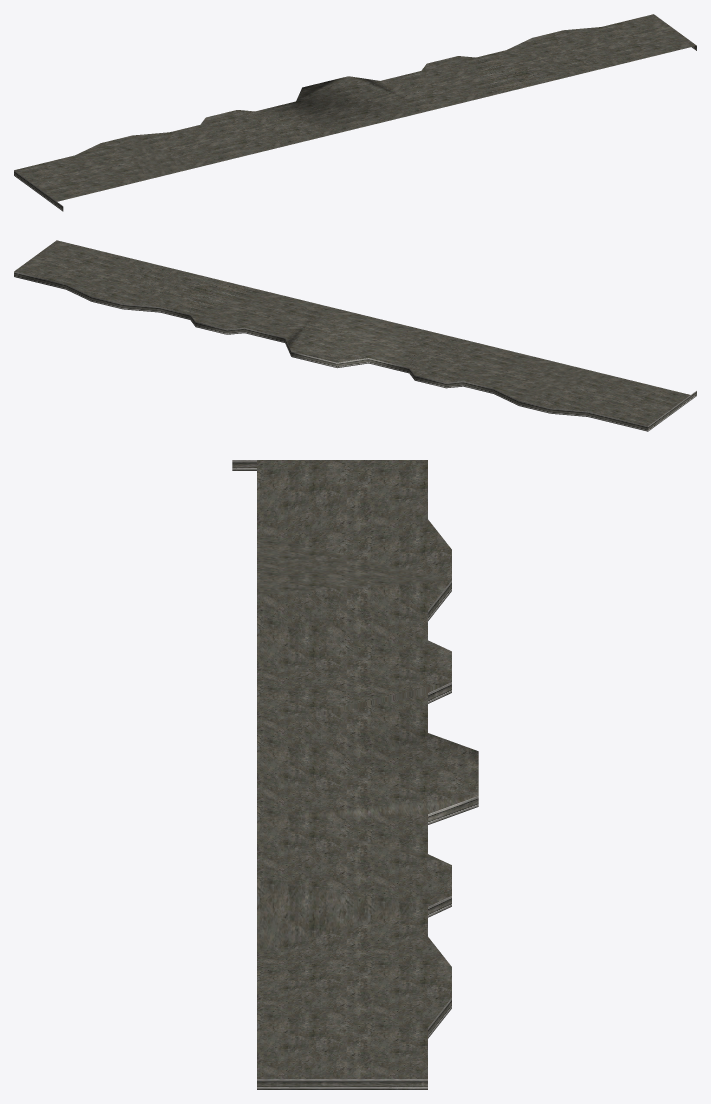
File: DWARF_PALACE_MAINHALL_UPPER_FLOOR02.fbx
3 views of the same model, one above another, from view 1: azimuth 30°, elevation 25°; view 2: azimuth 150°, elevation 25°; view 3: azimuth 270°, elevation 25° (orthographic). The views are drawn at different scales.
Parts seen in each view (by area): view 1: DWARF_PALACE_MAINHALL_UPPER_FLOOR02; view 2: DWARF_PALACE_MAINHALL_UPPER_FLOOR02; view 3: DWARF_PALACE_MAINHALL_UPPER_FLOOR02.
Boxes of the visible parts, left/top/right/bottom form: DWARF_PALACE_MAINHALL_UPPER_FLOOR02: left=14, top=14, right=696, bottom=211; DWARF_PALACE_MAINHALL_UPPER_FLOOR02: left=14, top=240, right=696, bottom=431; DWARF_PALACE_MAINHALL_UPPER_FLOOR02: left=232, top=460, right=478, bottom=1089.
Bounding box in the file's own units: 608001 × 5000 × 102151.
3 materials, 3 textured.
